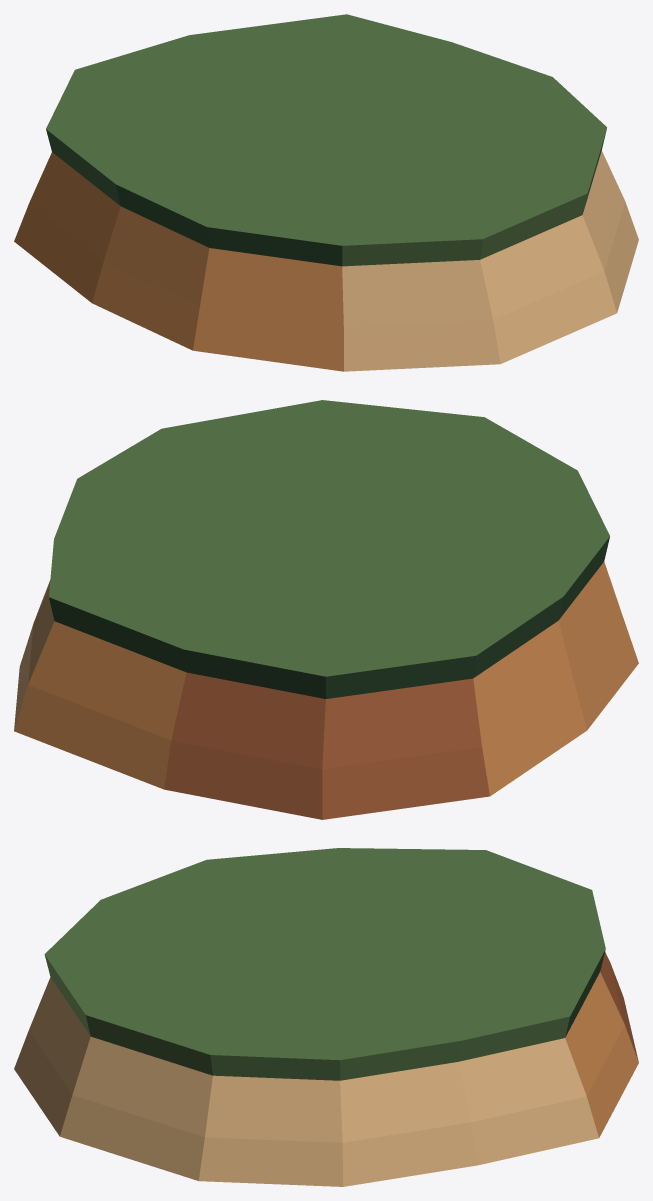
Rendered from rock_largeA.glb.
The picture shows the model from 3 angles, top to bottom: view 1: azimuth 30°, elevation 25°; view 2: azimuth 150°, elevation 25°; view 3: azimuth 270°, elevation 25°; orthographic projection. The views are drawn at different scales.
Parts seen in each view (by area): view 1: rock_largeA.002; view 2: rock_largeA.002; view 3: rock_largeA.002.
Boxes of the visible parts, <box> form: rock_largeA.002: <box>14,14,638,371</box>; rock_largeA.002: <box>14,400,638,819</box>; rock_largeA.002: <box>14,848,638,1186</box>.
Bounding box in the file's own units: 2.15 × 0.4816 × 2.4.
